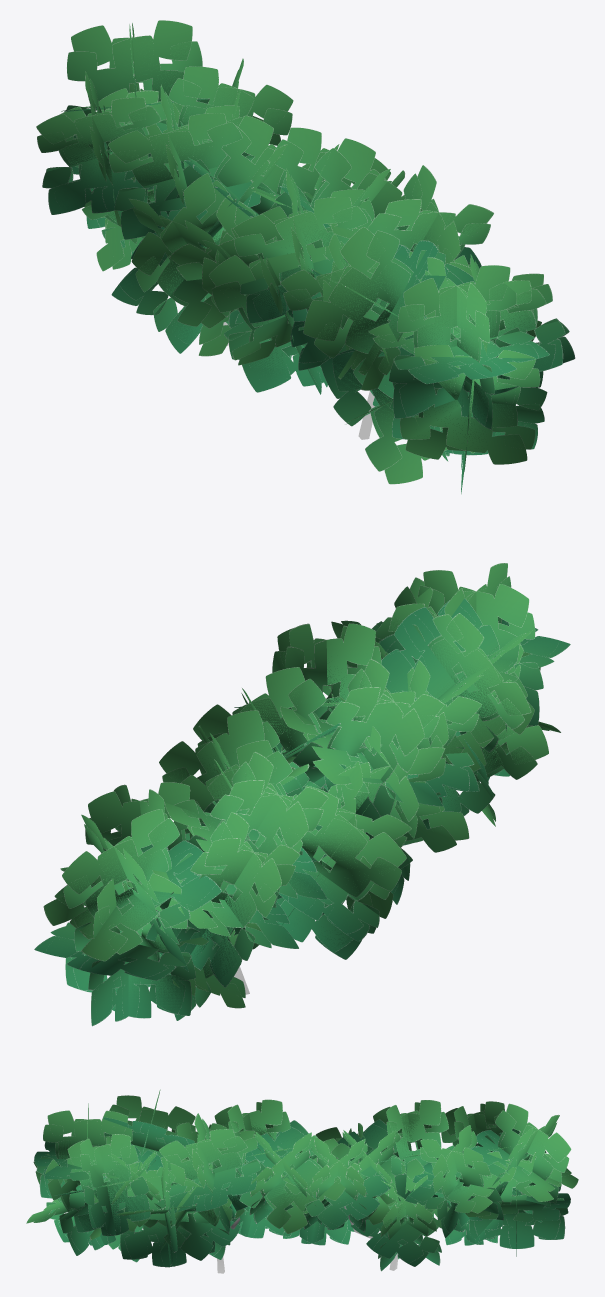
The model's file is TSP_Fence_Green_01B.fbx.
3 renders of one model, top to bottom at view 1: azimuth 30°, elevation 25°; view 2: azimuth 150°, elevation 25°; view 3: azimuth 270°, elevation 25°, orthographic. The views are drawn at different scales.
Visible parts, largest first — view 1: TSP_Fence_Green_01B; view 2: TSP_Fence_Green_01B; view 3: TSP_Fence_Green_01B.
Part boxes in pixels (x1,y1,x2,y2): TSP_Fence_Green_01B: (36,20,575,494); TSP_Fence_Green_01B: (34,563,570,1026); TSP_Fence_Green_01B: (26,1089,578,1273).
Size of the model in its own units: 1.89 by 1.66 by 4.76.
